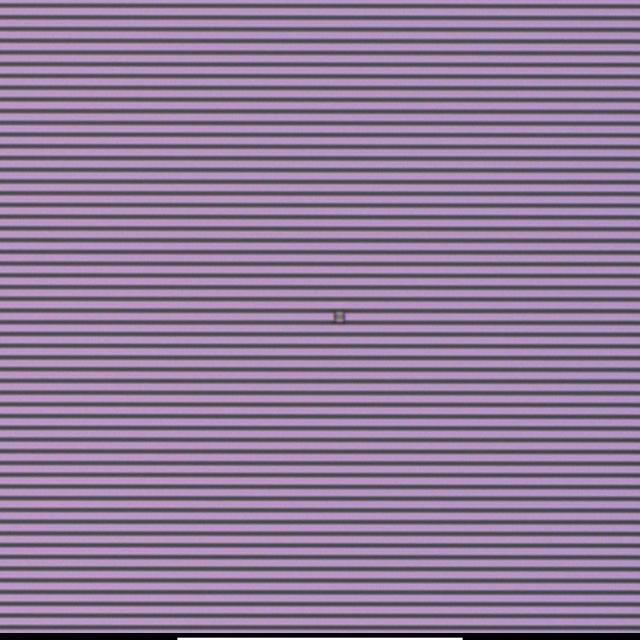03_intrusion: (333, 306, 348, 327)
